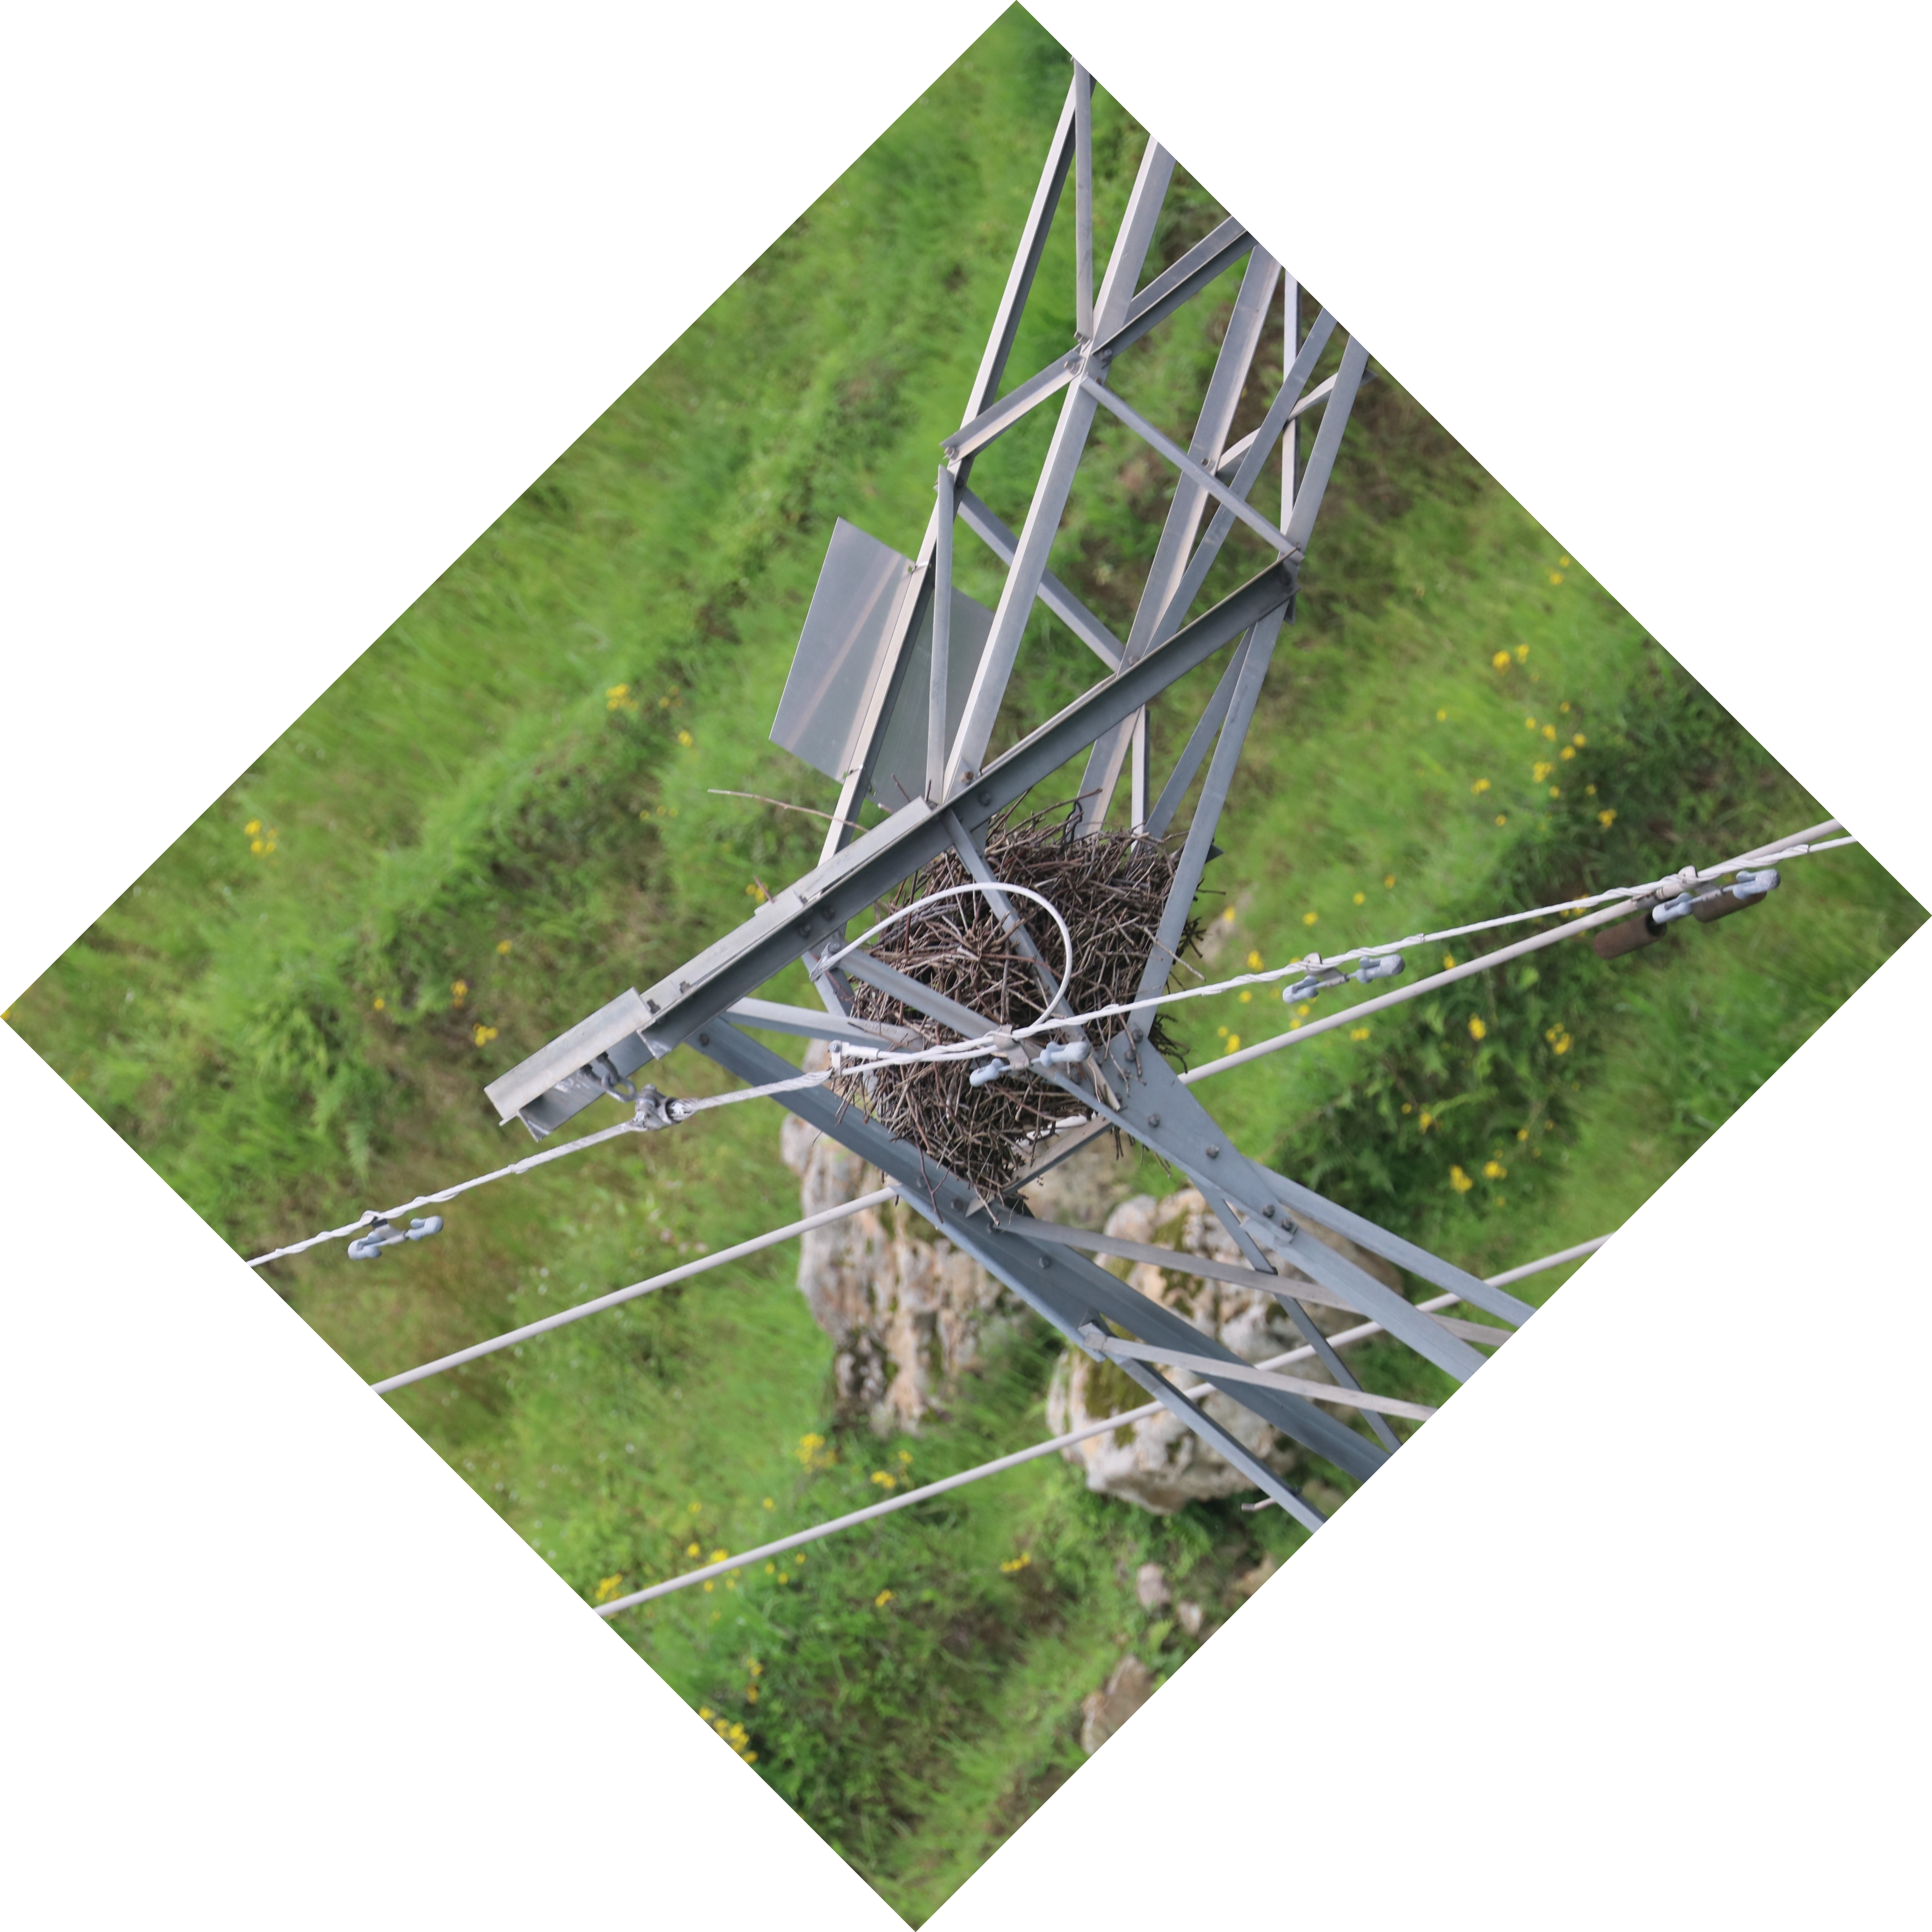niaowo: (817, 801, 1208, 1221)
